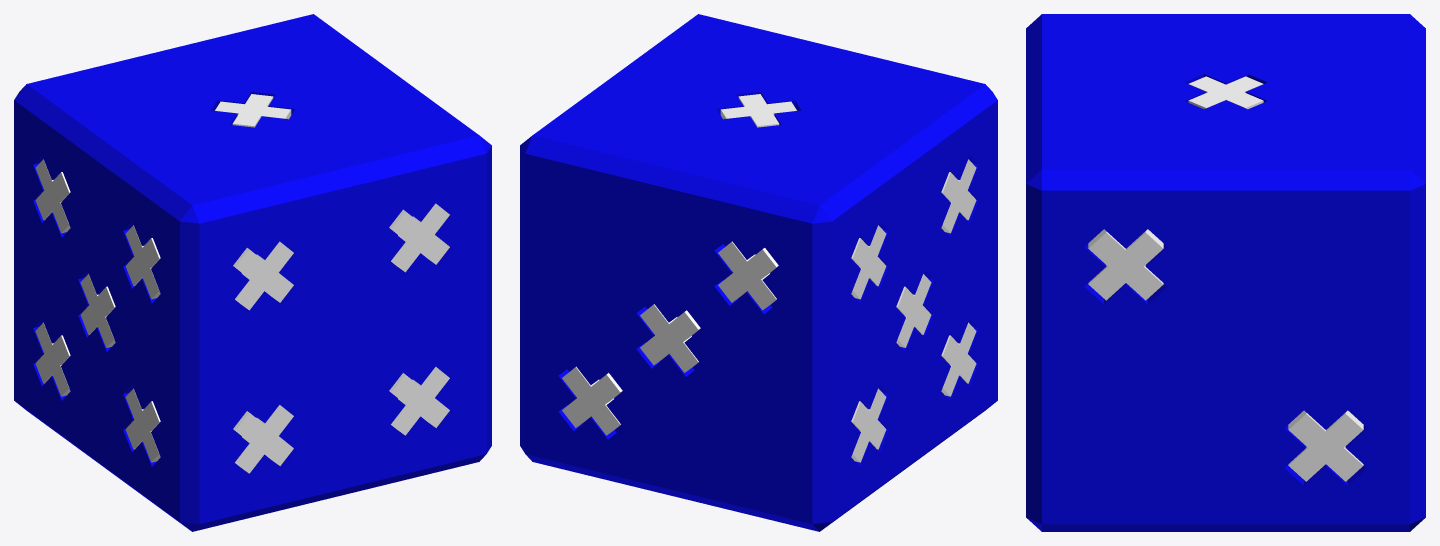
The model's file is 3_multiply_dice_blue.gltf.
The picture shows the model from 3 angles, left to right: view 1: azimuth 30°, elevation 25°; view 2: azimuth 150°, elevation 25°; view 3: azimuth 270°, elevation 25°; orthographic projection. The views are drawn at different scales.
Parts seen in each view (by area): view 1: D6_Dice_Blue; view 2: D6_Dice_Blue; view 3: D6_Dice_Blue.
Boxes of the visible parts, <box> form: D6_Dice_Blue: <box>14,14,491,531</box>; D6_Dice_Blue: <box>520,14,997,531</box>; D6_Dice_Blue: <box>1026,14,1425,531</box>.
Bounding box in the file's own units: 2 × 2 × 2.
